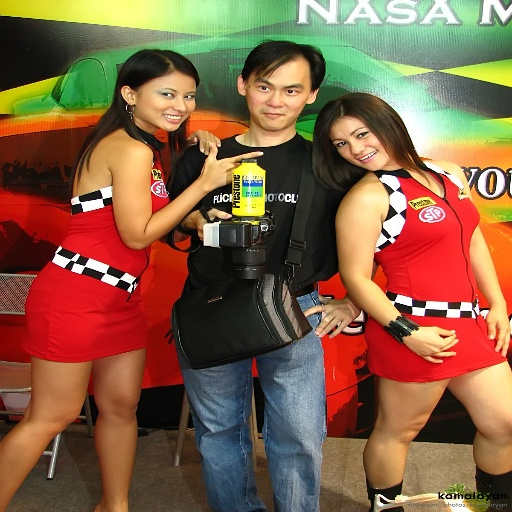hand: (195, 141, 265, 192), (299, 292, 359, 340), (405, 325, 459, 366), (482, 307, 511, 358), (194, 207, 232, 241), (185, 129, 224, 156)
